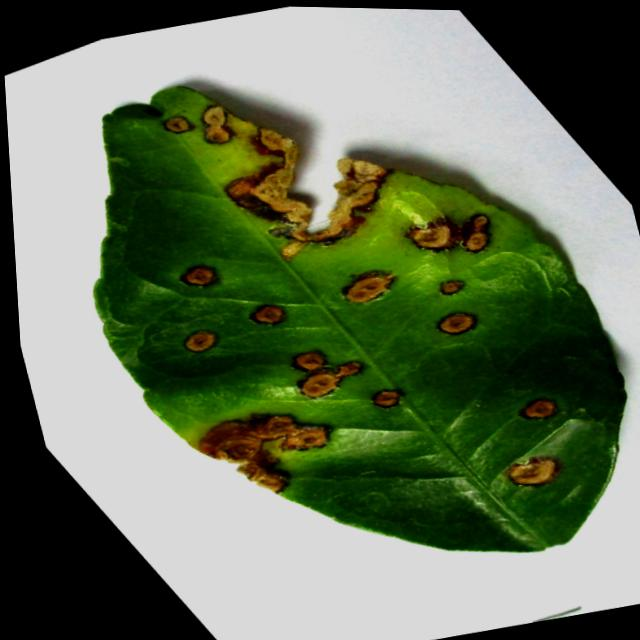antracnose: (94, 87, 625, 553), (225, 129, 317, 242), (198, 415, 329, 492), (291, 173, 384, 242), (404, 215, 489, 253), (291, 352, 361, 398), (341, 273, 394, 303), (507, 458, 558, 485), (336, 158, 386, 181), (437, 313, 475, 335), (179, 266, 217, 287), (518, 399, 557, 419), (183, 331, 216, 353), (249, 305, 285, 325), (372, 390, 402, 408), (280, 241, 307, 261), (202, 106, 226, 128), (163, 116, 192, 133), (204, 126, 231, 144), (438, 281, 462, 296)
